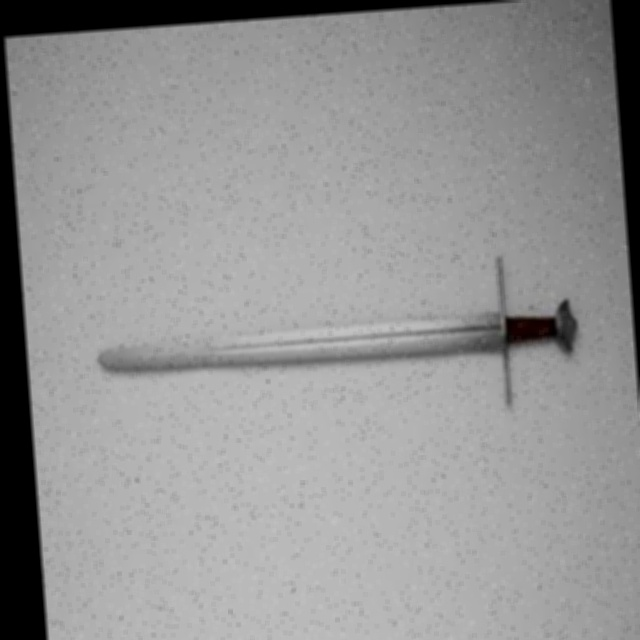Sharp-Object: (87, 296, 598, 406)
